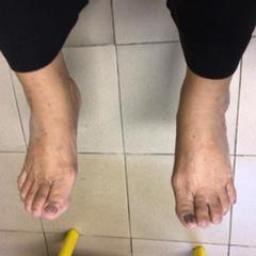Dorsal View -Both Feet-: (10, 4, 242, 246)
